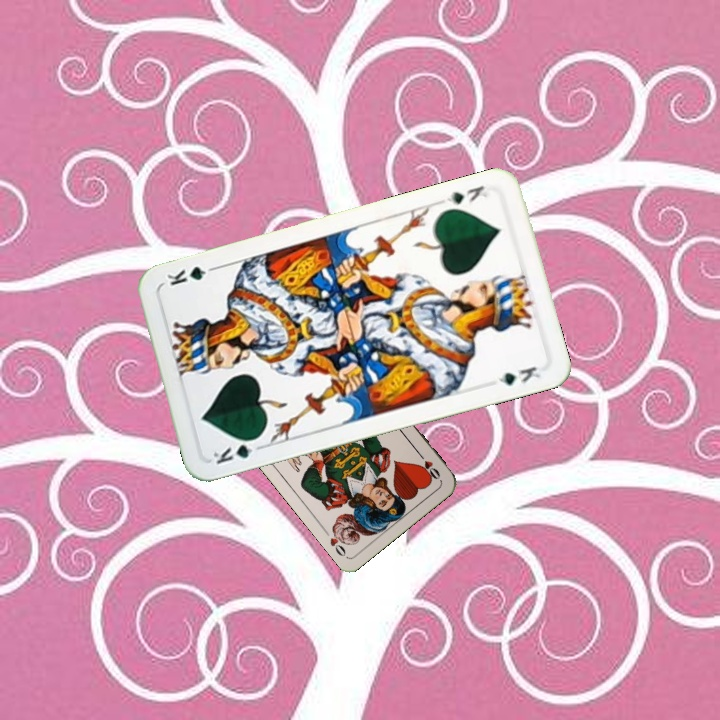GK: (209, 433, 266, 467), (442, 181, 491, 207)
HO: (414, 448, 443, 482)
